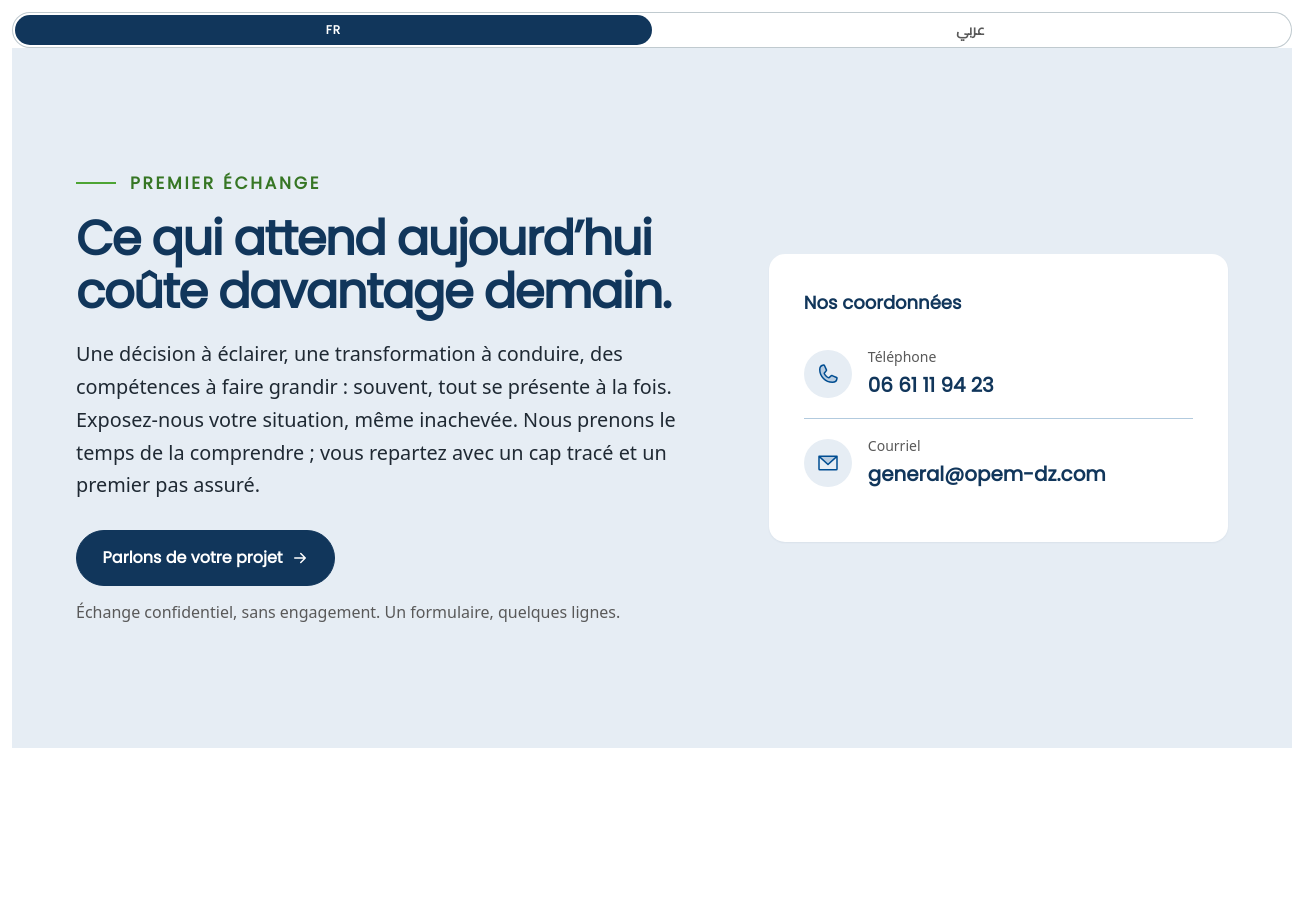
Test case: Bloc « Premier échange » › passe en arabe
Click the button "عربي": (970, 30) [652,15,1289,45]
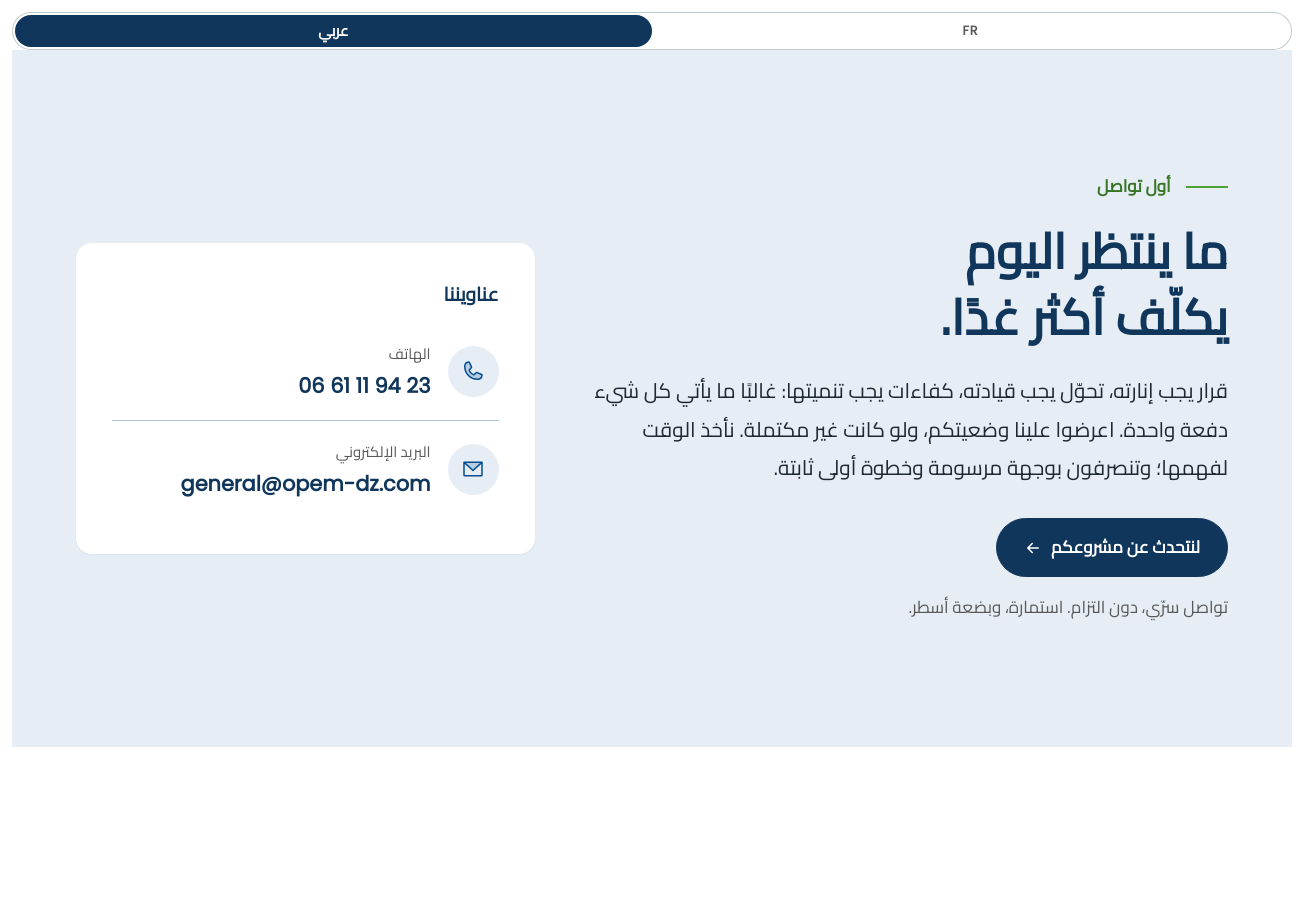
Expected: the link "لنتحدث عن مشروعكم" is shown, [996,518,1228,578]
